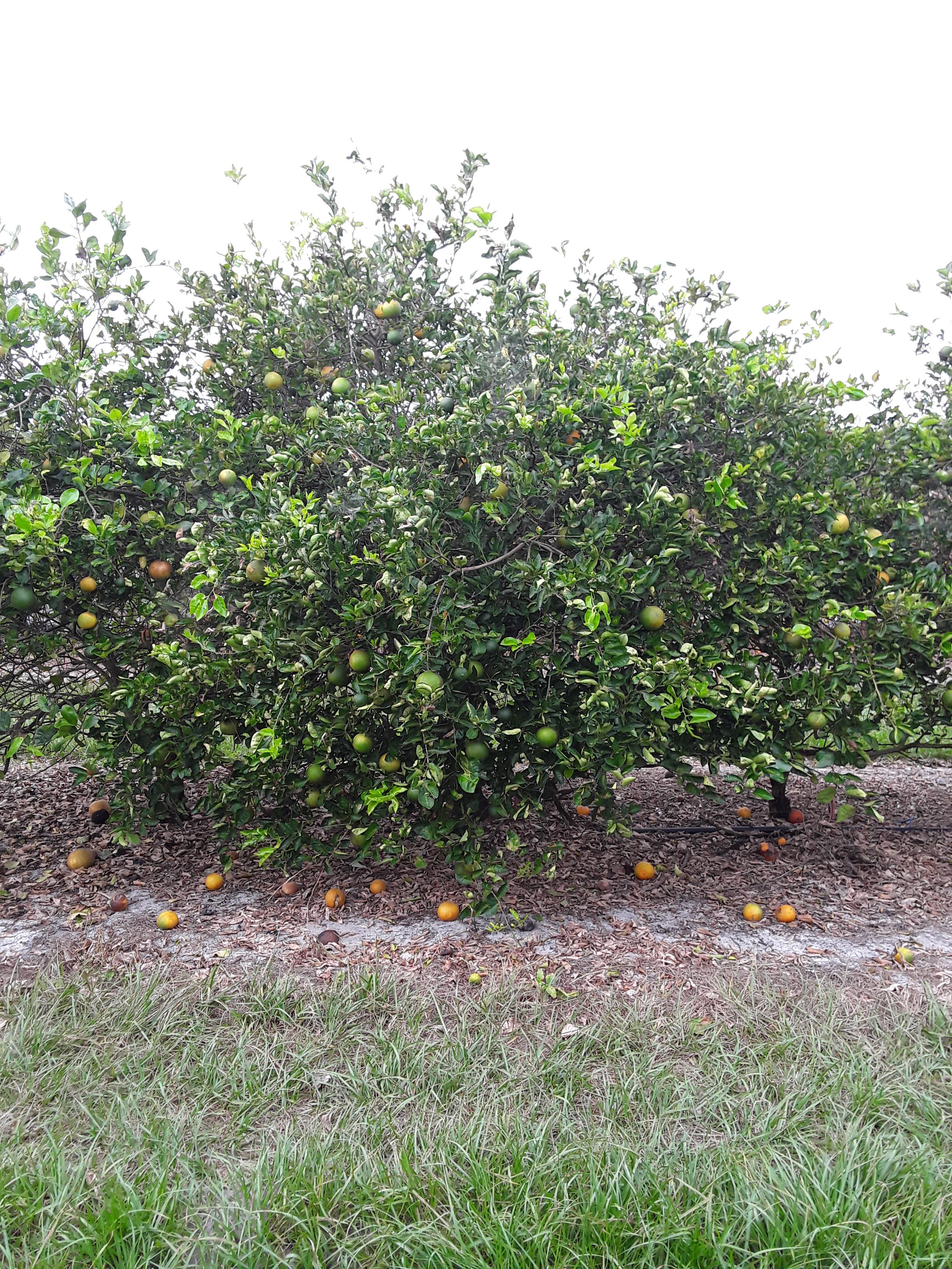fruit_on_ground: (8, 582, 40, 614), (413, 669, 445, 698), (638, 603, 666, 631), (347, 647, 374, 675), (147, 741, 173, 768), (462, 737, 490, 762), (243, 557, 268, 583), (534, 724, 560, 749), (148, 556, 173, 580), (326, 662, 351, 686), (303, 761, 327, 785), (781, 628, 806, 651), (377, 751, 402, 774), (486, 476, 509, 500), (330, 375, 354, 398), (261, 369, 284, 392), (829, 512, 852, 535), (351, 731, 374, 754), (494, 704, 517, 726), (76, 609, 99, 631), (317, 362, 341, 383), (138, 509, 163, 529), (554, 529, 576, 551), (382, 296, 404, 318), (562, 427, 584, 449), (217, 466, 239, 488), (463, 659, 485, 681), (456, 493, 478, 514), (302, 788, 324, 809), (830, 620, 852, 641), (436, 394, 457, 414), (77, 574, 98, 594), (682, 505, 704, 524), (671, 491, 693, 510), (862, 524, 884, 543), (218, 717, 240, 736), (805, 710, 827, 729), (872, 567, 892, 587), (371, 299, 390, 320), (200, 356, 219, 377), (452, 453, 472, 472), (309, 447, 329, 466), (385, 327, 404, 346), (936, 342, 952, 364), (47, 669, 65, 687), (405, 784, 422, 803), (420, 699, 440, 715), (889, 664, 906, 682), (351, 692, 369, 709), (483, 638, 500, 656), (451, 666, 469, 683), (940, 686, 952, 711), (938, 469, 952, 488), (410, 325, 427, 340), (106, 299, 120, 312)
fruit_on_tree: (64, 846, 96, 872), (86, 797, 114, 820), (436, 898, 461, 922), (155, 907, 180, 931), (322, 886, 346, 908), (633, 859, 656, 881), (775, 902, 798, 923), (316, 926, 341, 945), (894, 946, 916, 967), (203, 870, 225, 891), (742, 901, 764, 921), (109, 893, 129, 913), (368, 877, 389, 896), (280, 878, 300, 896), (89, 808, 111, 824), (786, 807, 806, 824), (573, 802, 592, 817), (82, 762, 101, 776), (735, 804, 752, 818), (758, 840, 771, 852), (775, 834, 788, 846), (662, 769, 677, 779), (675, 794, 686, 804)
